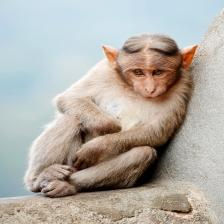monkey: (22, 21, 224, 221)
